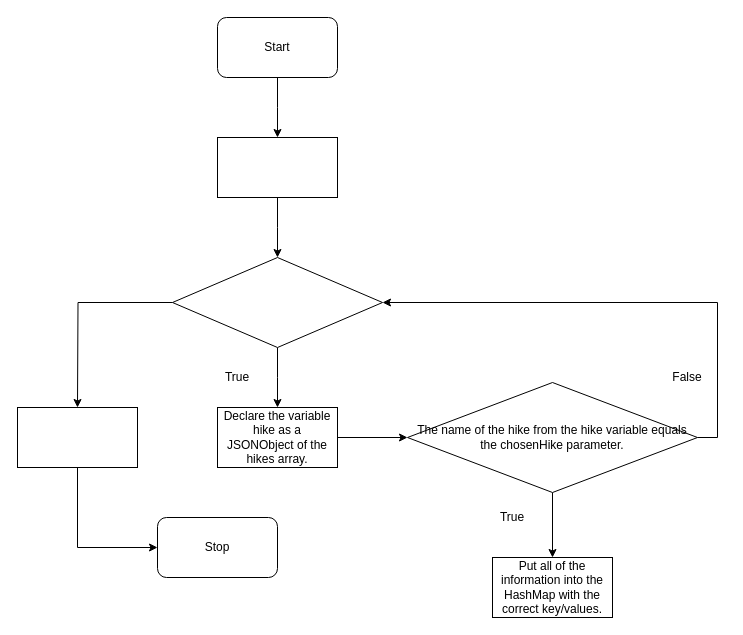
This 743x635 diagram has some shape labels left out. The box of each missing label's shape, as (x1, y1, x2, y2) in pixels:
Declare the HashMap with the key being a string and the value being a string.: (216, 136, 338, 198)
int i = 0; i < the length of the array of hikes i++: (172, 256, 382, 348)
return the HashMap.: (16, 406, 138, 468)
